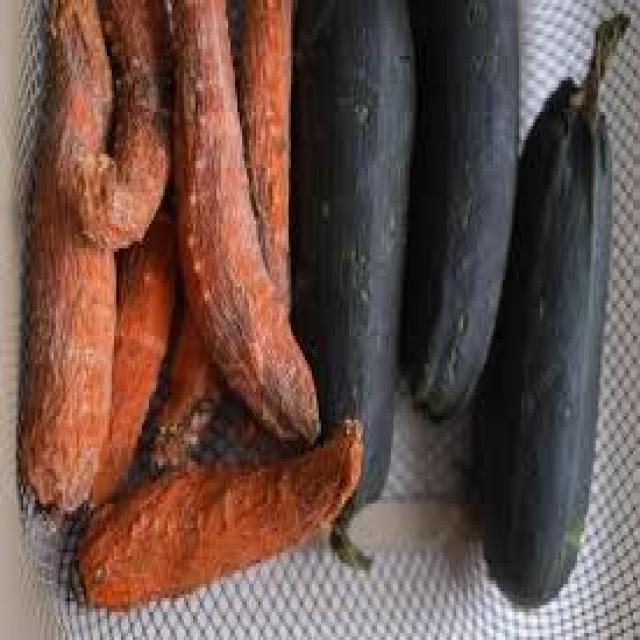Stale_Carrot: (175, 0, 320, 442), (20, 160, 116, 510)
